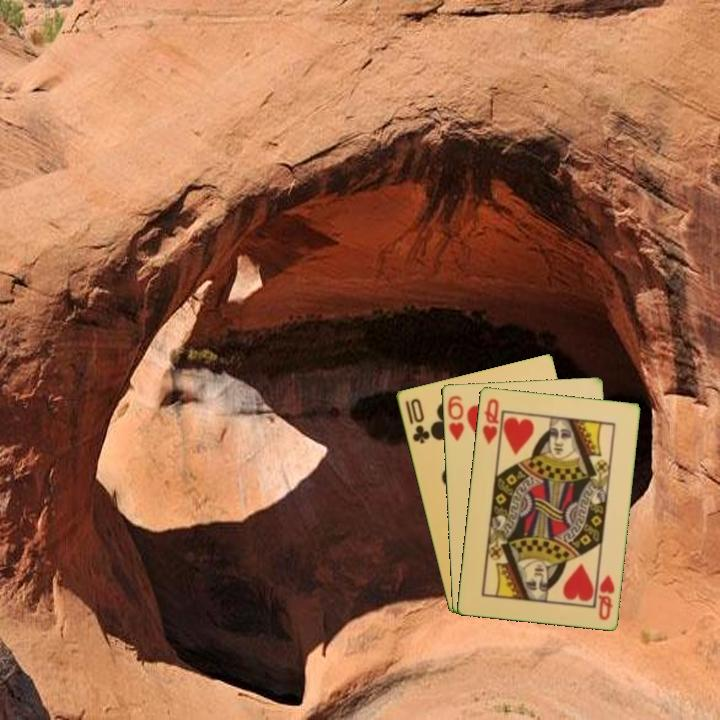10c: (401, 395, 432, 447)
6h: (444, 392, 467, 443)
Qh: (478, 394, 501, 447), (594, 571, 617, 623)
